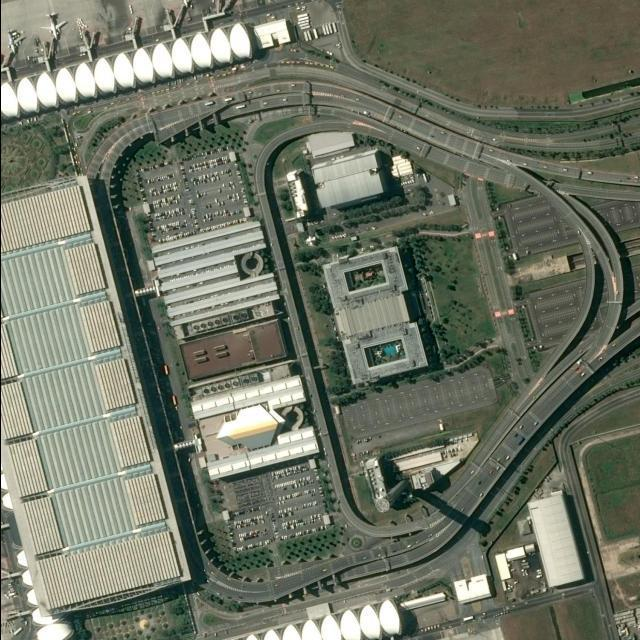Aircraft: (40, 14, 70, 42), (2, 27, 24, 57)
